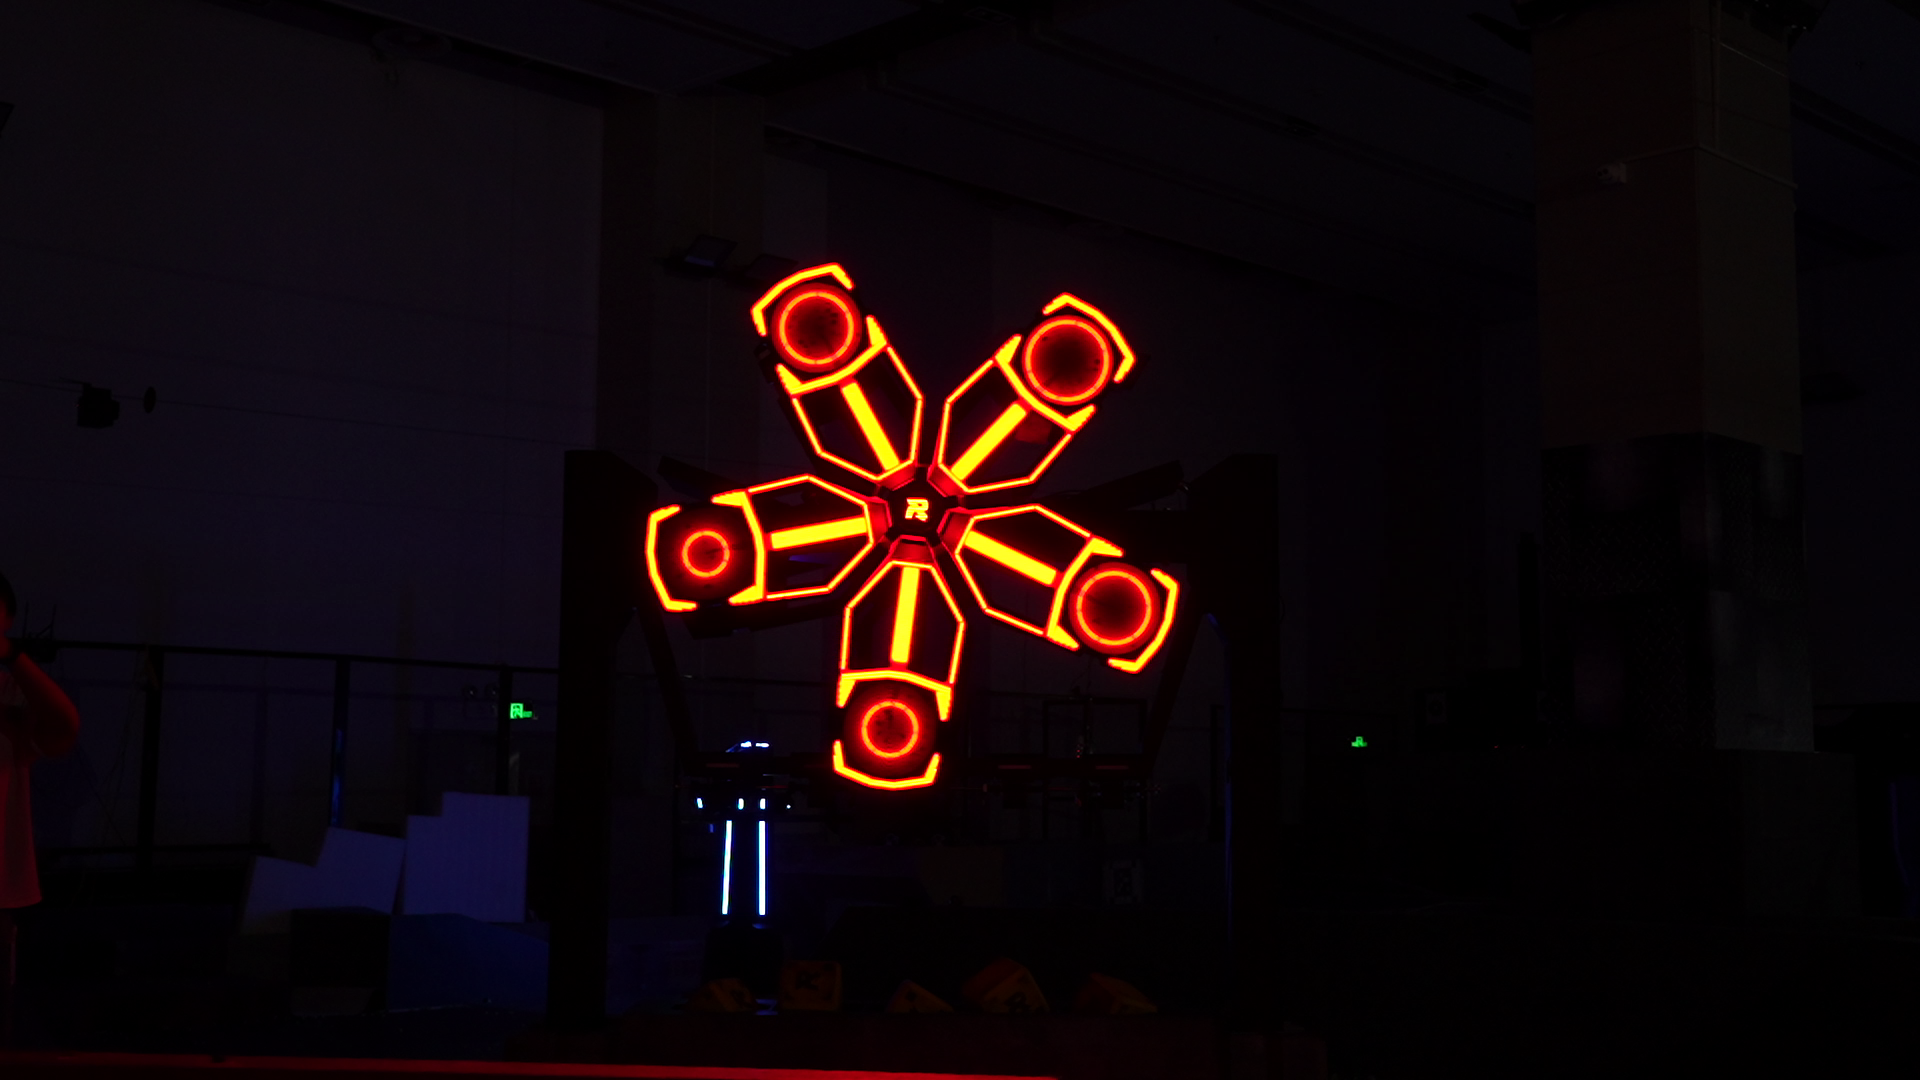R: (905, 496, 930, 522)
